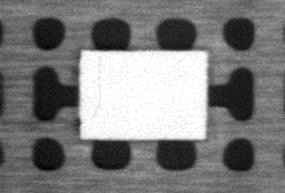DIE_CRACK: (89, 54, 100, 121)
